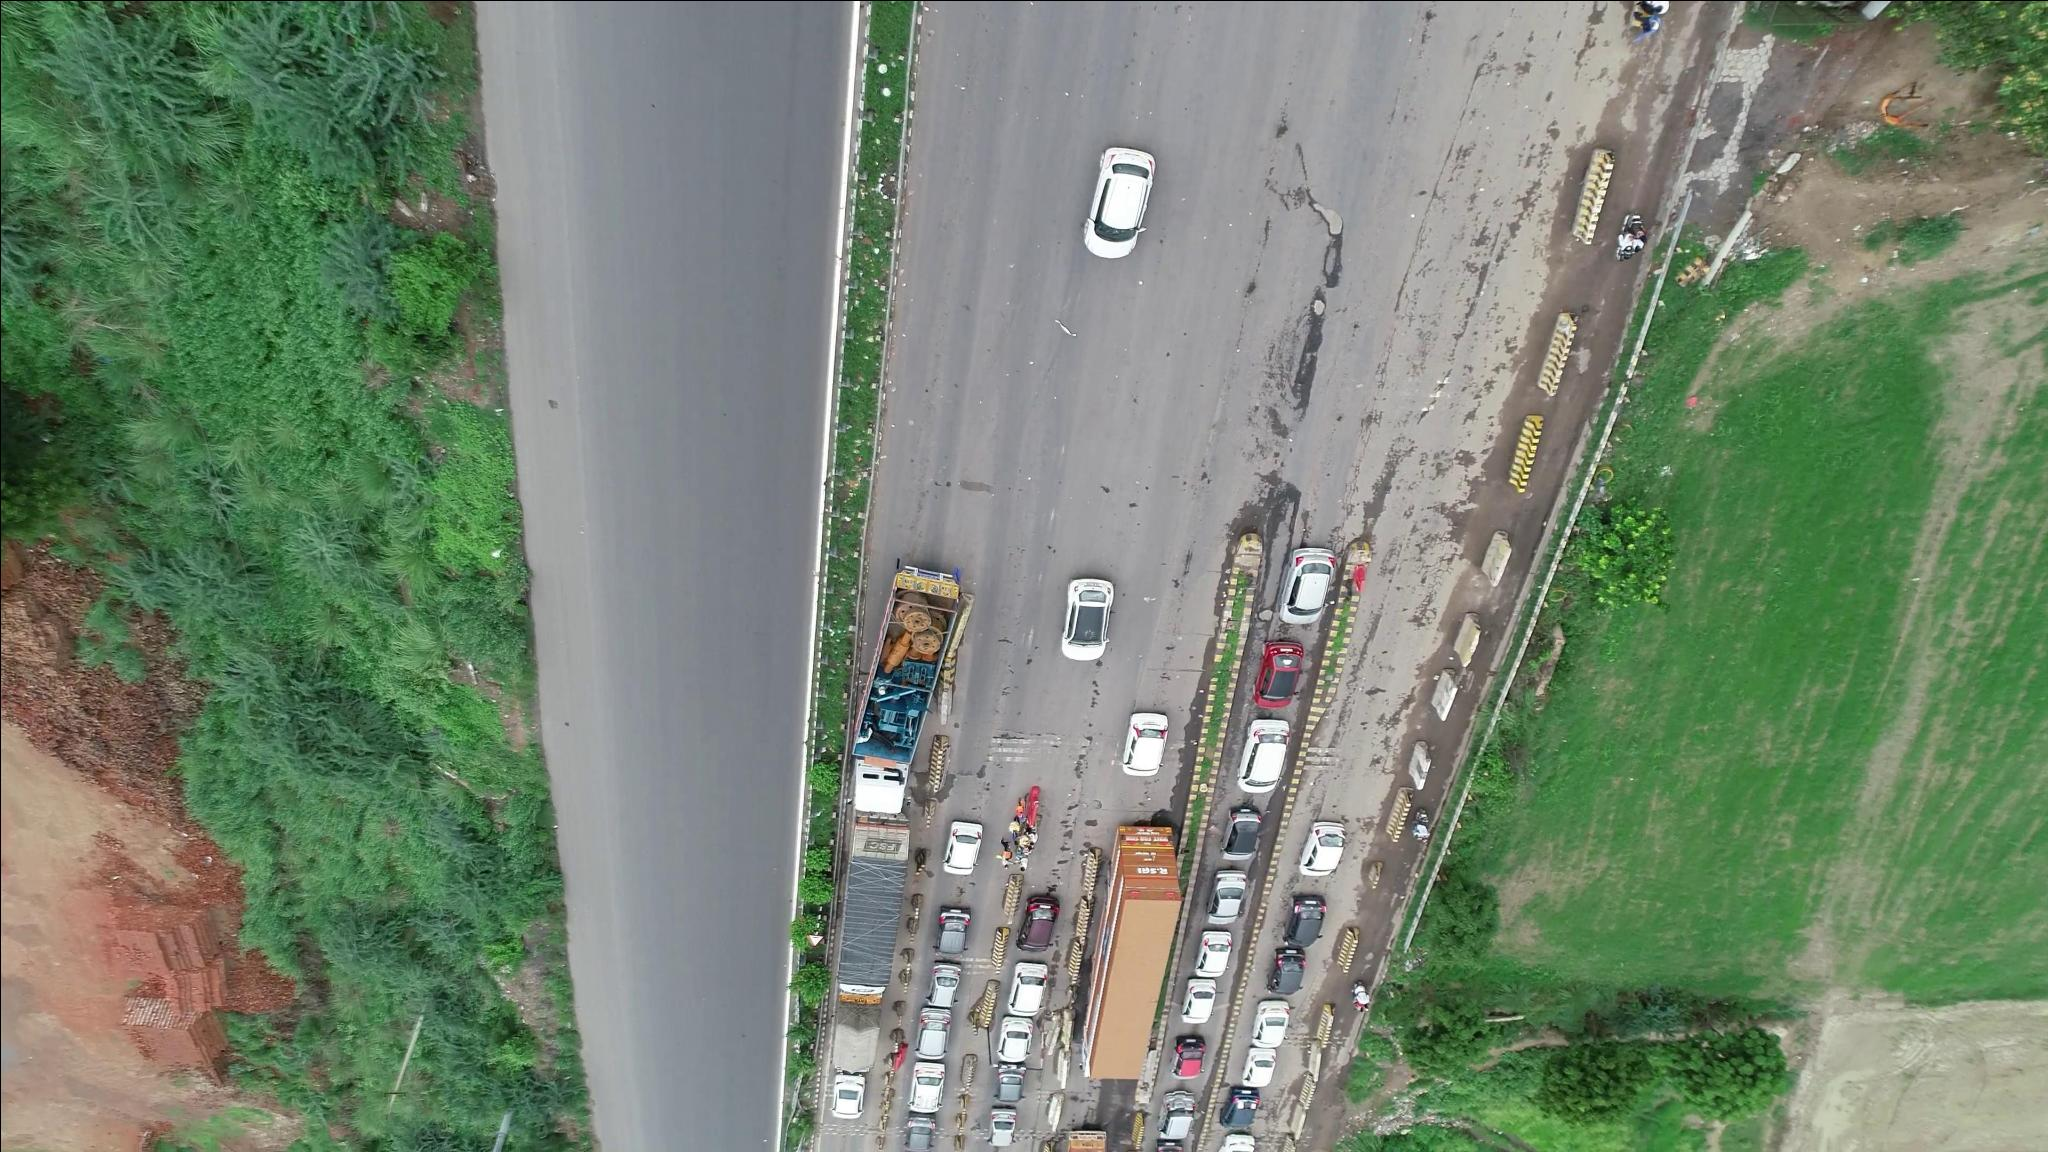Cracks: (1336, 464, 1373, 549), (1416, 551, 1459, 613)
Potholes: (1294, 186, 1352, 248), (1295, 280, 1346, 328)
